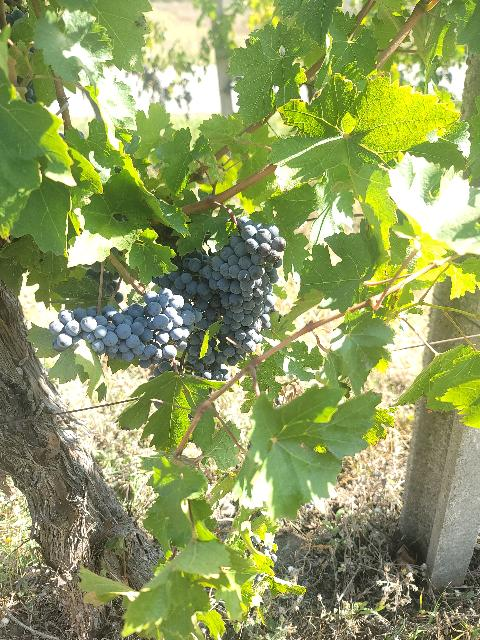grapes: (49, 289, 202, 364), (210, 216, 286, 352), (152, 251, 234, 325)
